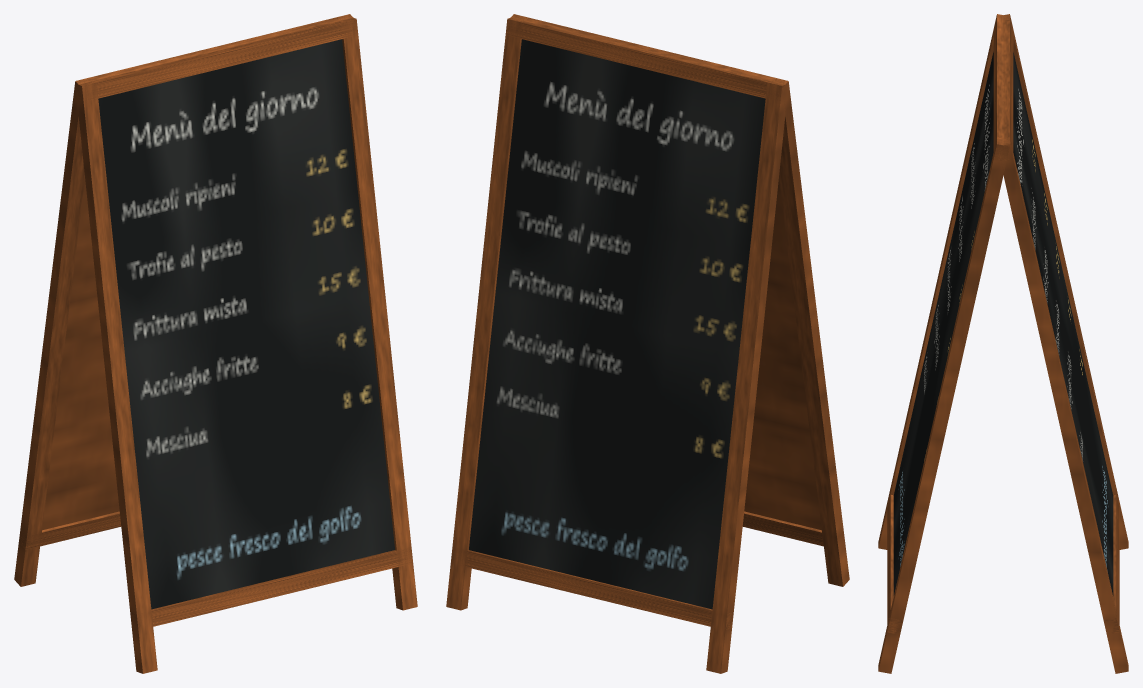
The model's file is SM_Molo_Lavagna.fbx.
The picture shows the model from 3 angles, left to right: view 1: azimuth 30°, elevation 25°; view 2: azimuth 150°, elevation 25°; view 3: azimuth 270°, elevation 25°; orthographic projection. The views are drawn at different scales.
Parts seen in each view (by area): view 1: SM_Molo_Lavagna; view 2: SM_Molo_Lavagna; view 3: SM_Molo_Lavagna.
Part boxes in pixels (x1=…): SM_Molo_Lavagna: x1=14, y1=14, x2=417, y2=673; SM_Molo_Lavagna: x1=446, y1=14, x2=849, y2=673; SM_Molo_Lavagna: x1=878, y1=14, x2=1128, y2=673.
Size of what is drawn, in the model's own units: 56 by 45.47 by 106.
Materials: 1 (1 with a texture image).
